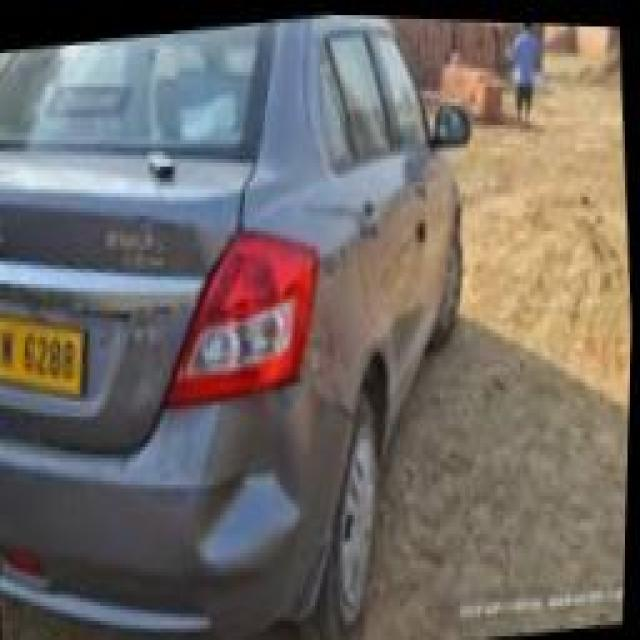Bumper: (69, 376, 358, 626)
